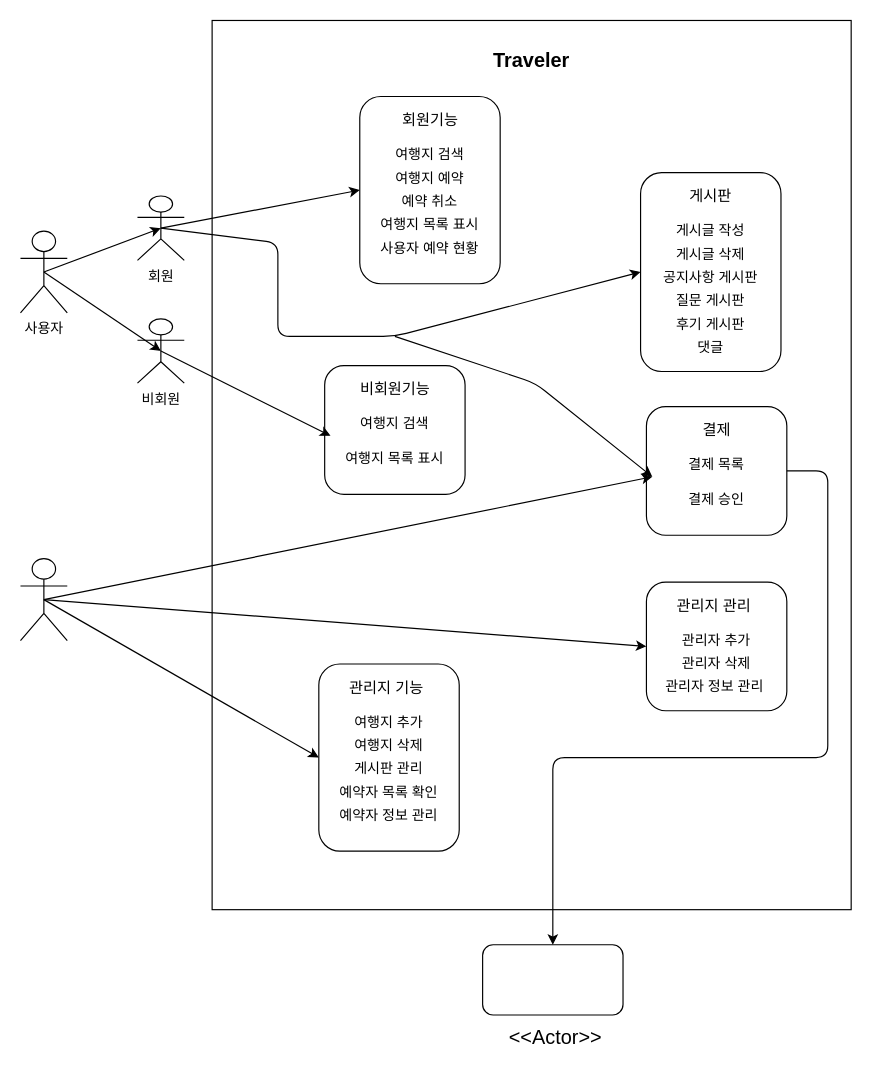
The diagram is 872 pixels wide and 1071 high, and some of its shapes have lost their labels. The box of each missing label's shape, as (x1, y1, x2, y2) in pixels:
결제 시스템: (481, 944, 623, 1015)
관리자: (19, 558, 67, 641)
